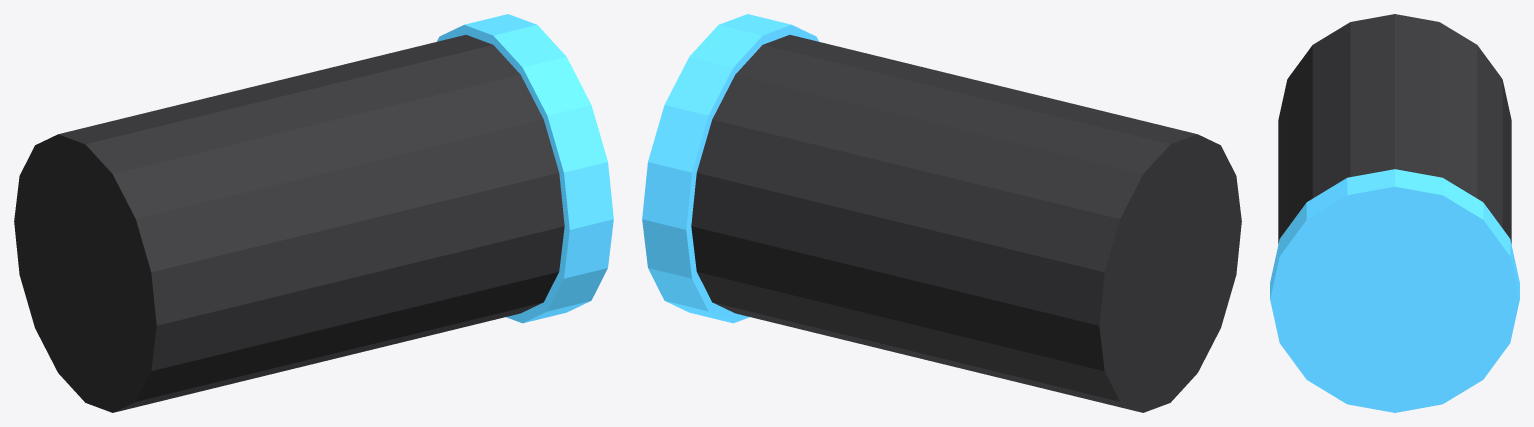
File: SM_Mod_Light.fbx
3 renders of one model, left to right at view 1: azimuth 30°, elevation 25°; view 2: azimuth 150°, elevation 25°; view 3: azimuth 270°, elevation 25°, orthographic. The views are drawn at different scales.
Visible parts, largest first — view 1: SM_Mod_Light; view 2: SM_Mod_Light; view 3: SM_Mod_Light.
Boxes of the visible parts, box(x1,y1,x2,y2) form: SM_Mod_Light: box(14, 14, 613, 412); SM_Mod_Light: box(642, 14, 1241, 412); SM_Mod_Light: box(1270, 14, 1519, 412).
Size of the model in its own units: 10.25 by 6 by 6.
